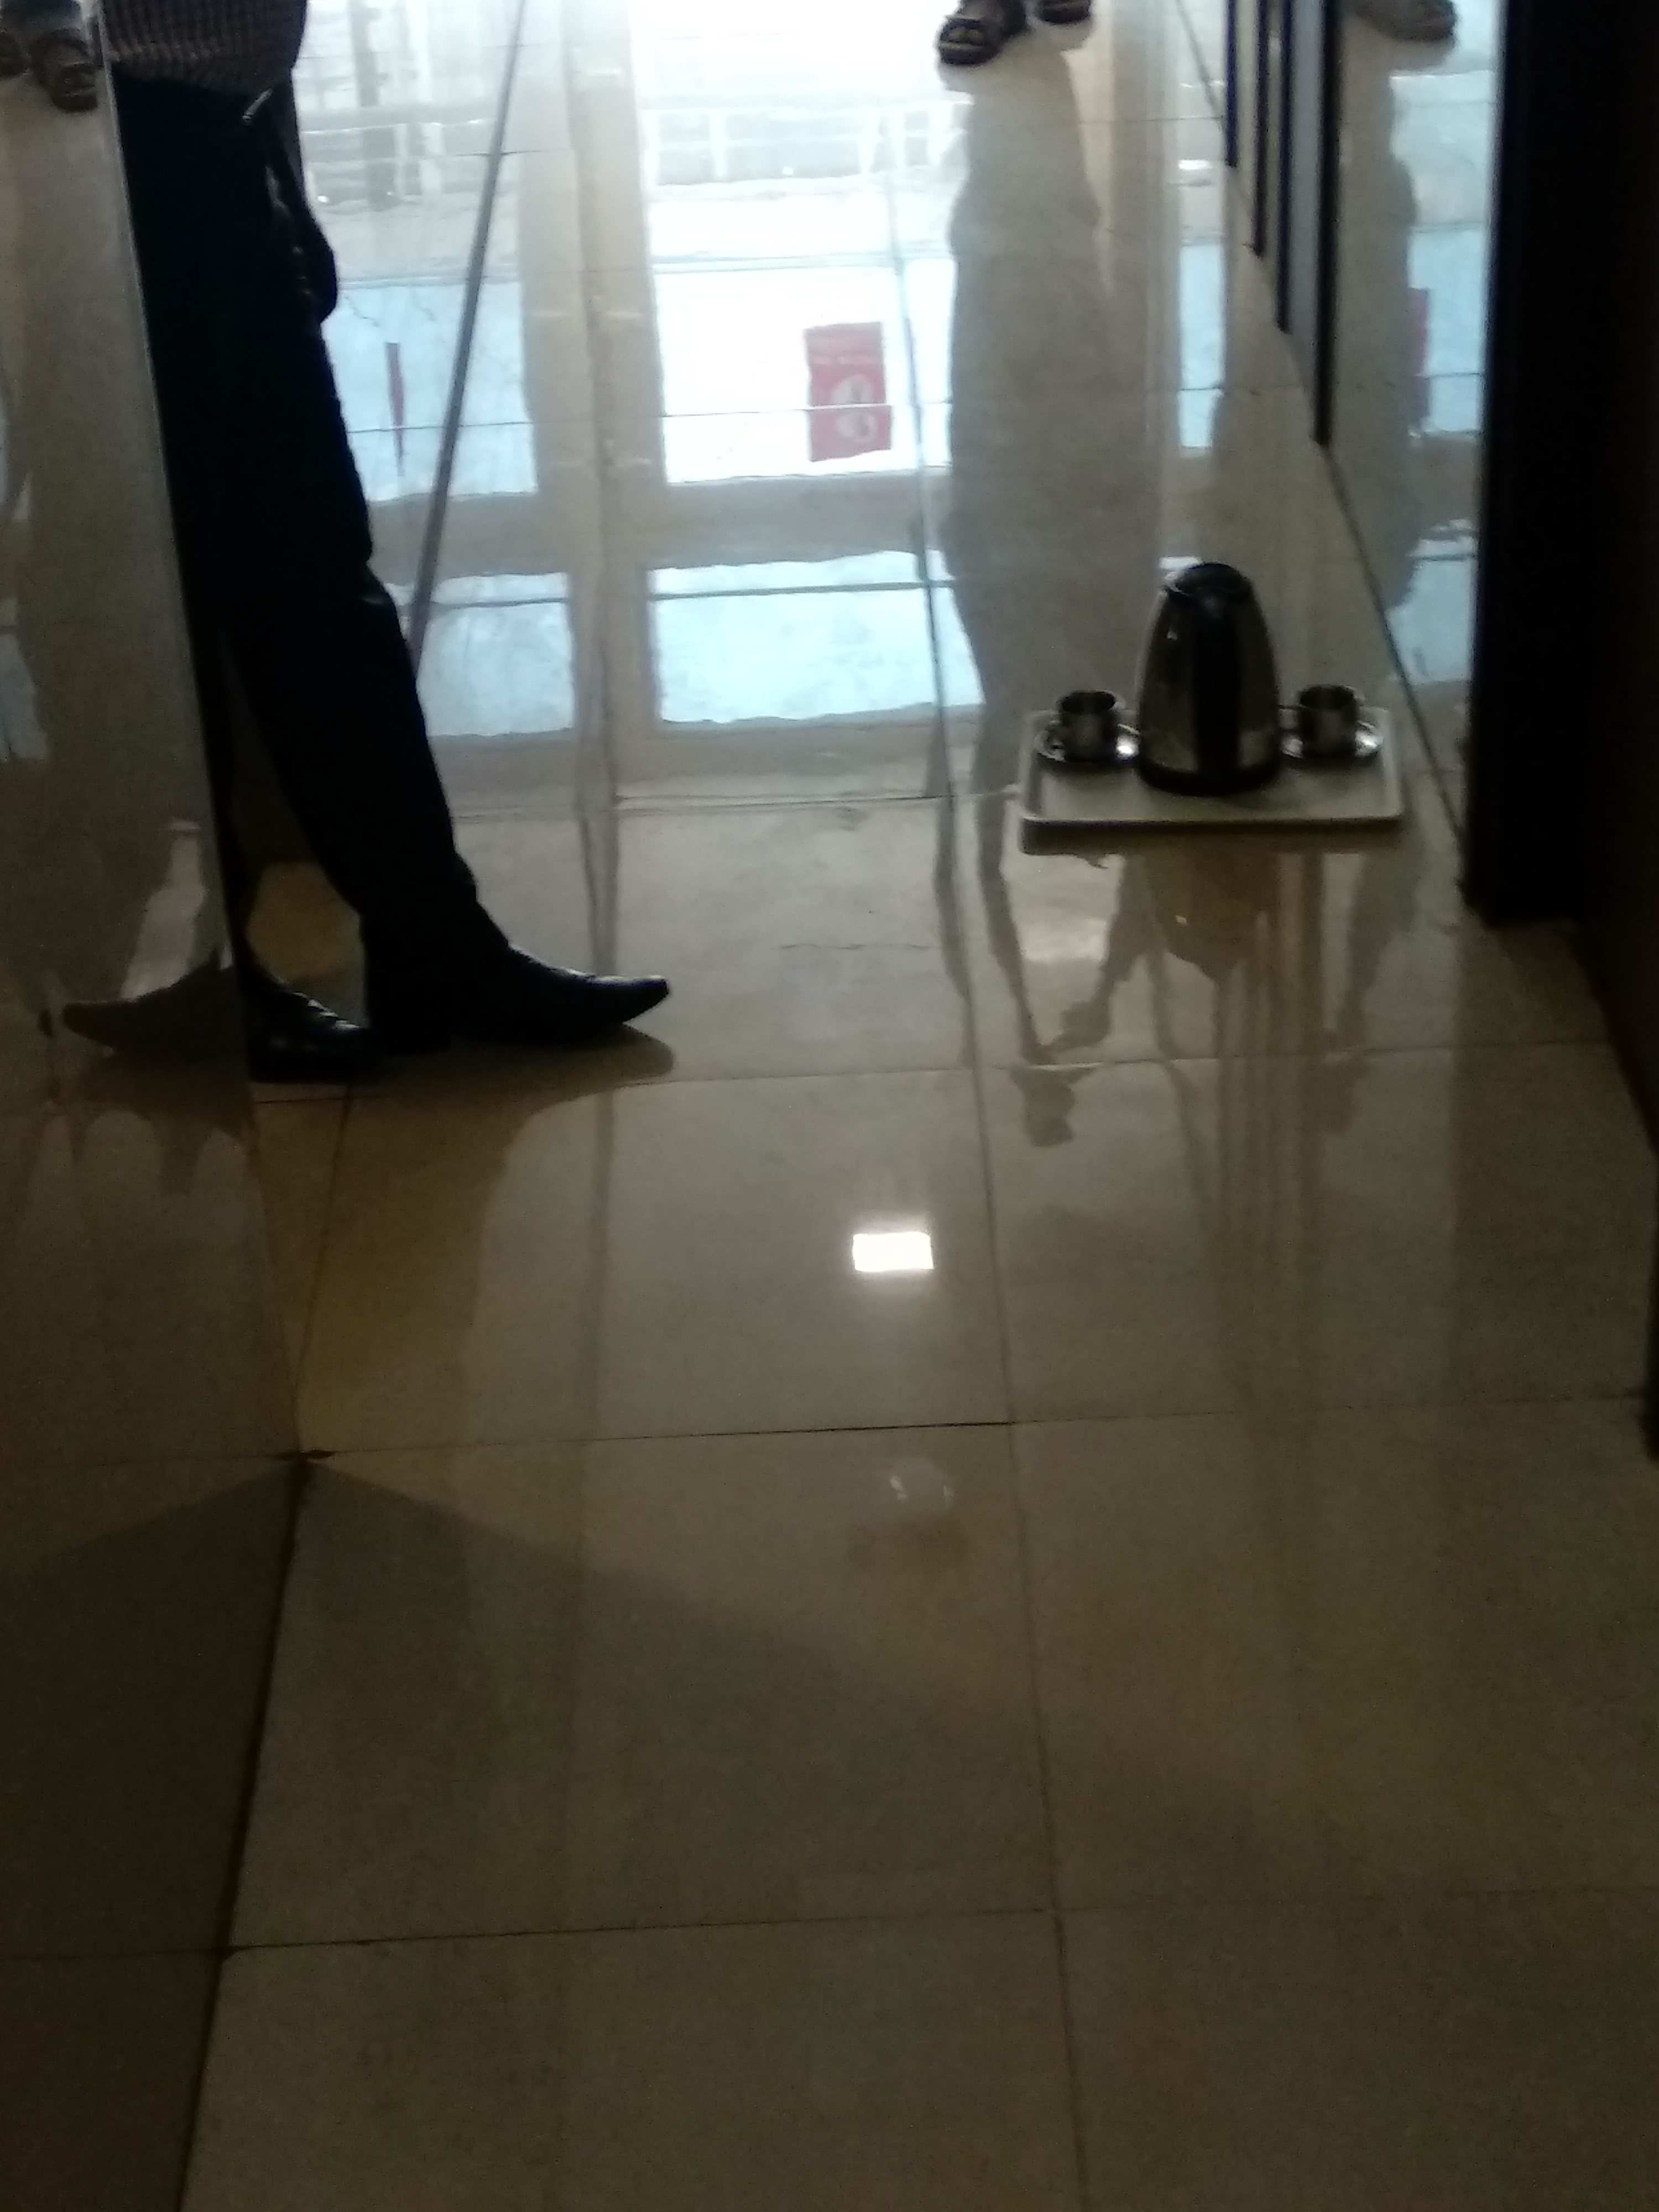CUP: (1049, 685, 1124, 759), (1297, 681, 1363, 756)
JUG: (1141, 563, 1288, 787)
